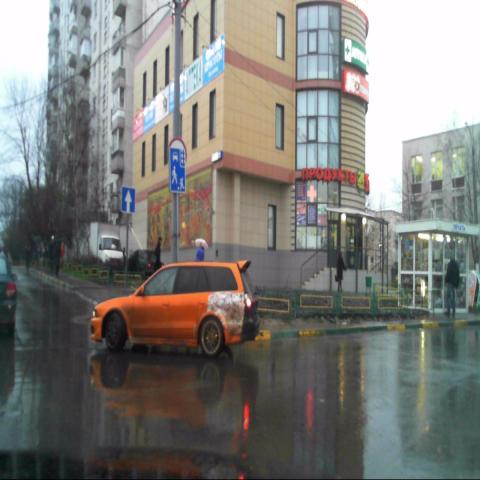5_5: (122, 187, 135, 213)
